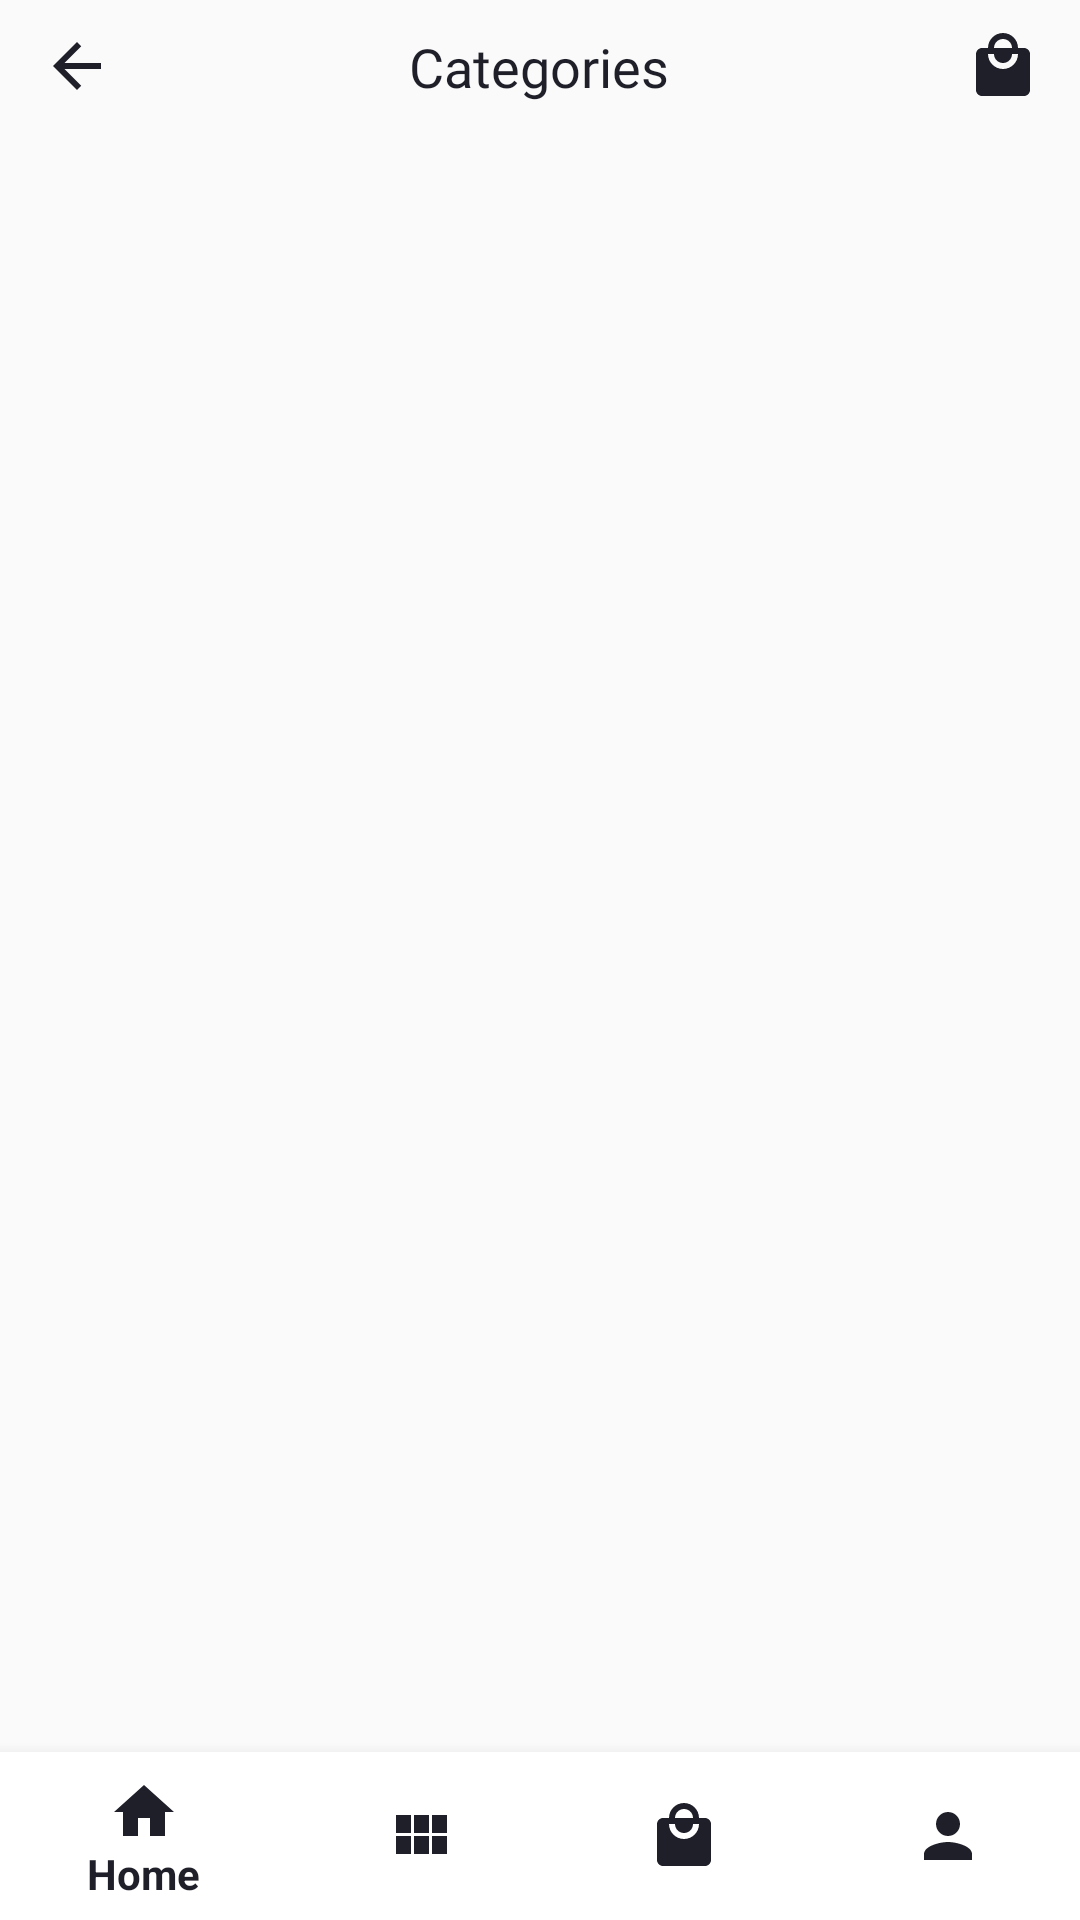

Where to tap for icons on this 1080*1920 app screen, as [x,y]:
arrow back: [77,66]
local mall: [1003,64]
